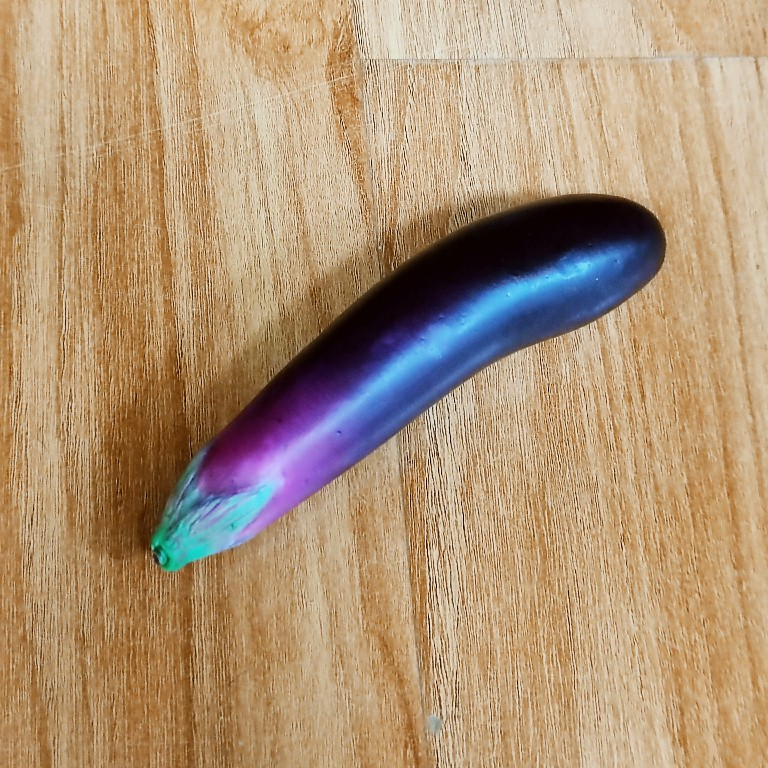fruit_eggplant: (144, 191, 669, 574)
